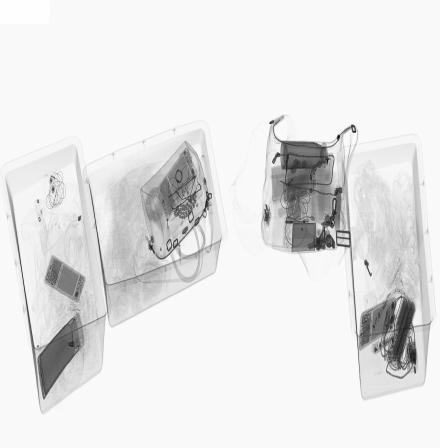Knife: (285, 185, 296, 223)
